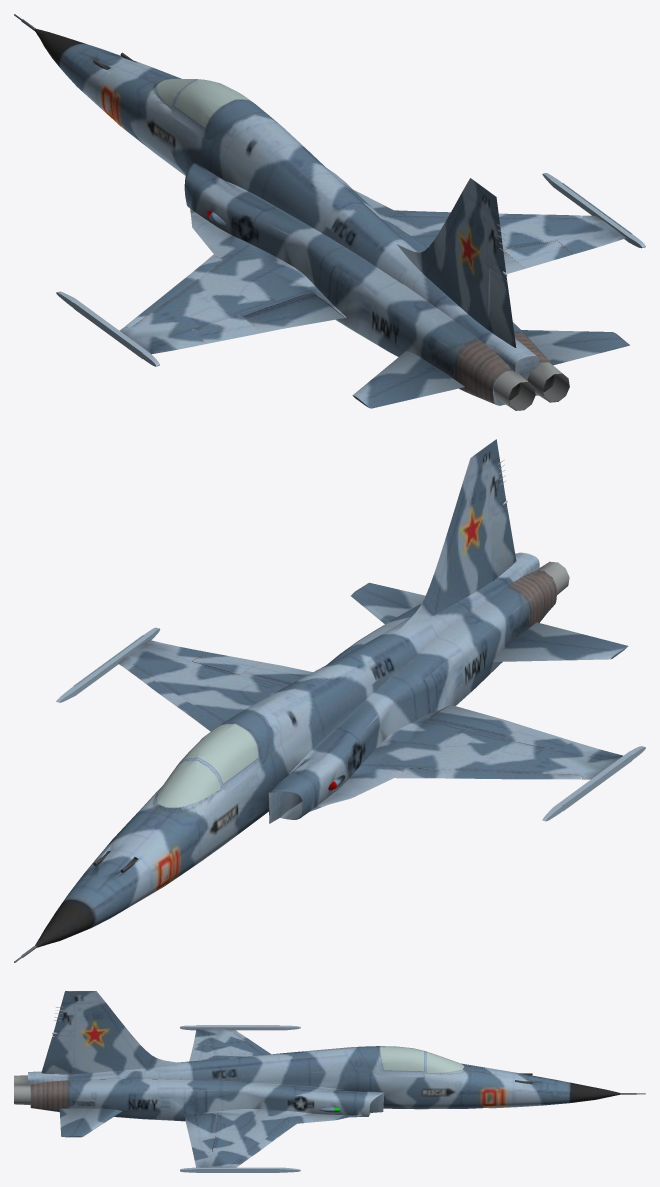
3 renders of one model, top to bottom at view 1: azimuth 30°, elevation 25°; view 2: azimuth 150°, elevation 25°; view 3: azimuth 270°, elevation 25°, orthographic. The views are drawn at different scales.
Parts seen in each view (by area): view 1: body|fuzel-FACES, body|soplo-FACES, body|kabina_steklo-FACES_0; view 2: body|fuzel-FACES, body|kabina_steklo-FACES_0; view 3: body|fuzel-FACES, body|kabina_steklo-FACES_0, body|soplo-FACES.
Boxes of the visible parts, bbox=[...] form: body|fuzel-FACES: bbox=[14, 14, 645, 408]; body|soplo-FACES: bbox=[493, 362, 569, 410]; body|kabina_steklo-FACES_0: bbox=[157, 79, 251, 127]; body|fuzel-FACES: bbox=[14, 439, 645, 962]; body|kabina_steklo-FACES_0: bbox=[157, 724, 258, 807]; body|fuzel-FACES: bbox=[28, 991, 645, 1172]; body|kabina_steklo-FACES_0: bbox=[380, 1046, 464, 1072]; body|soplo-FACES: bbox=[14, 1075, 30, 1104].
Size of the model in its own units: 7.79 by 2.97 by 14.45.
16 materials, 6 textured.
